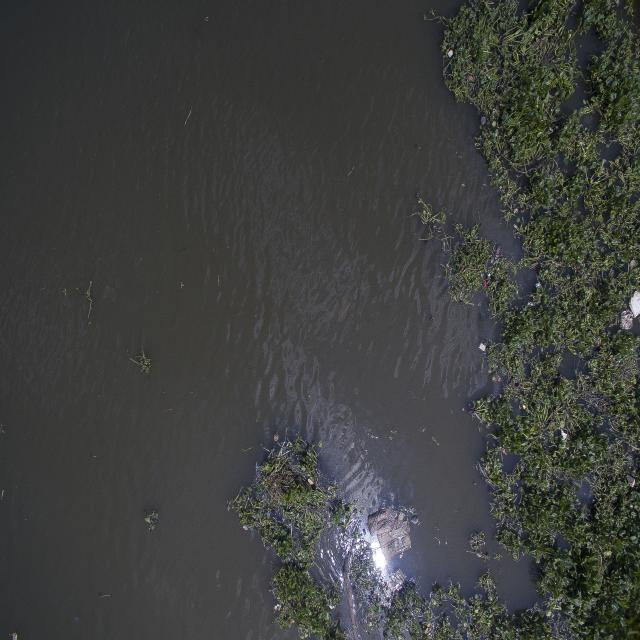plastic: (357, 505, 436, 572), (624, 286, 640, 346), (557, 423, 576, 449), (480, 333, 494, 358), (446, 40, 459, 64)
